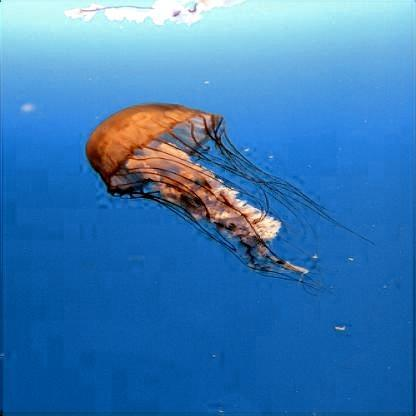Dressed: (84, 102, 336, 281)
